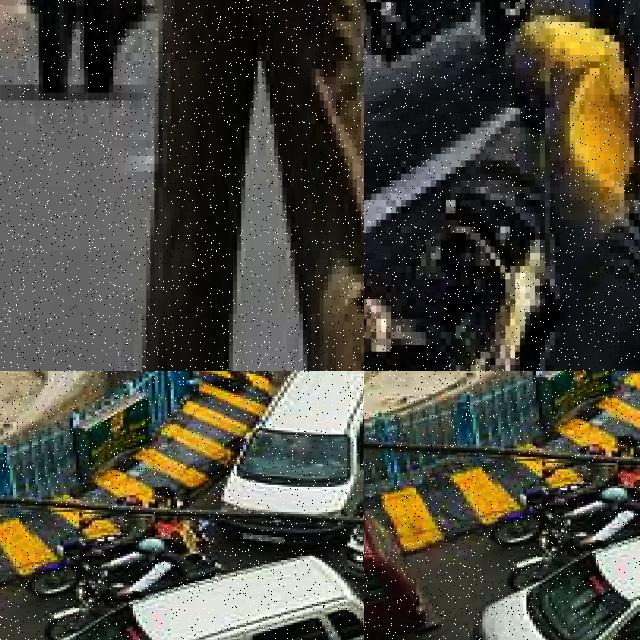bike: (500, 0, 640, 371), (0, 0, 141, 100), (22, 529, 206, 562), (485, 477, 640, 511)
